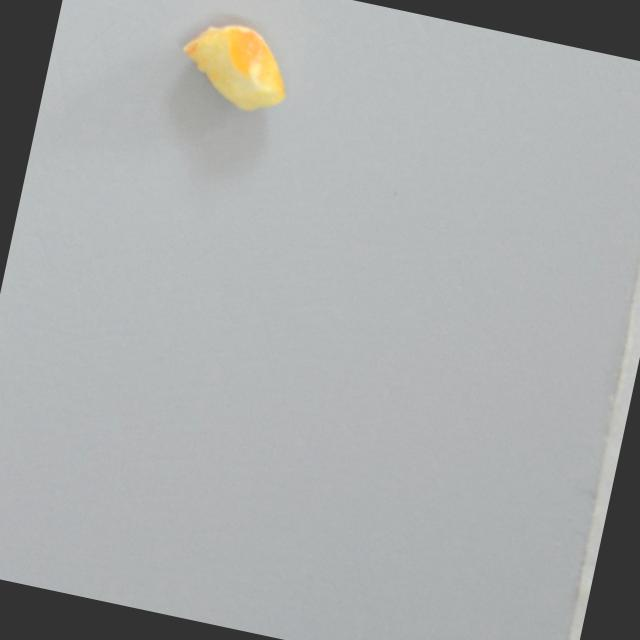dañado: (166, 3, 301, 122)
